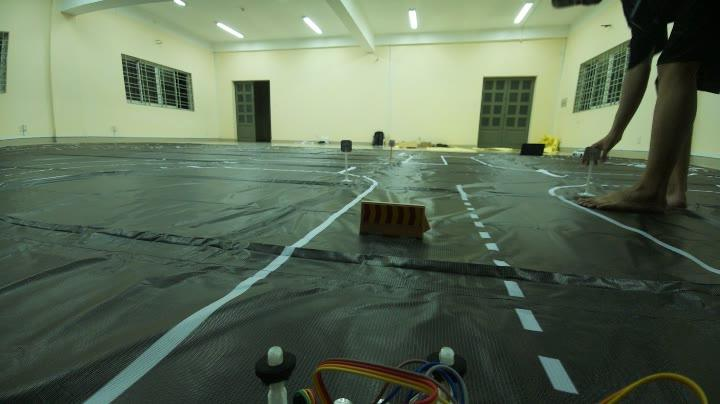roadblock: (350, 196, 446, 250)
